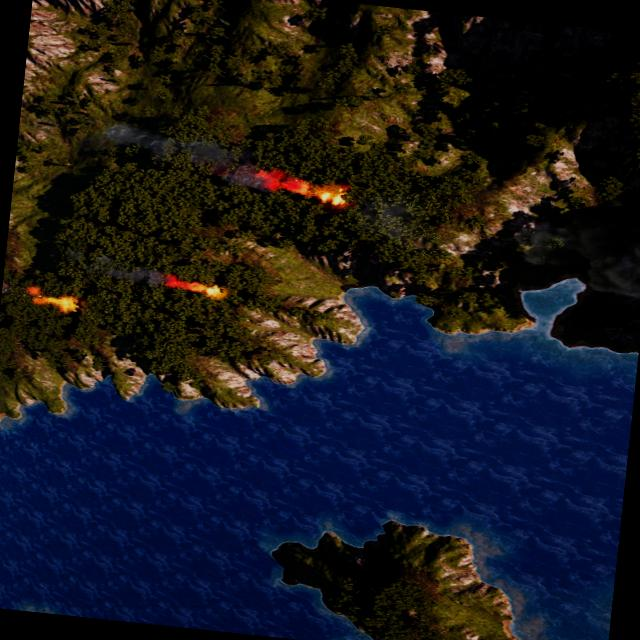fire: (24, 284, 76, 311), (180, 278, 224, 298)
smoke: (80, 118, 350, 205), (356, 195, 484, 254), (58, 246, 188, 290)
